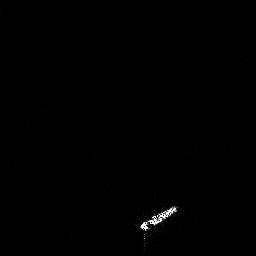ship: (137, 203, 180, 233)
